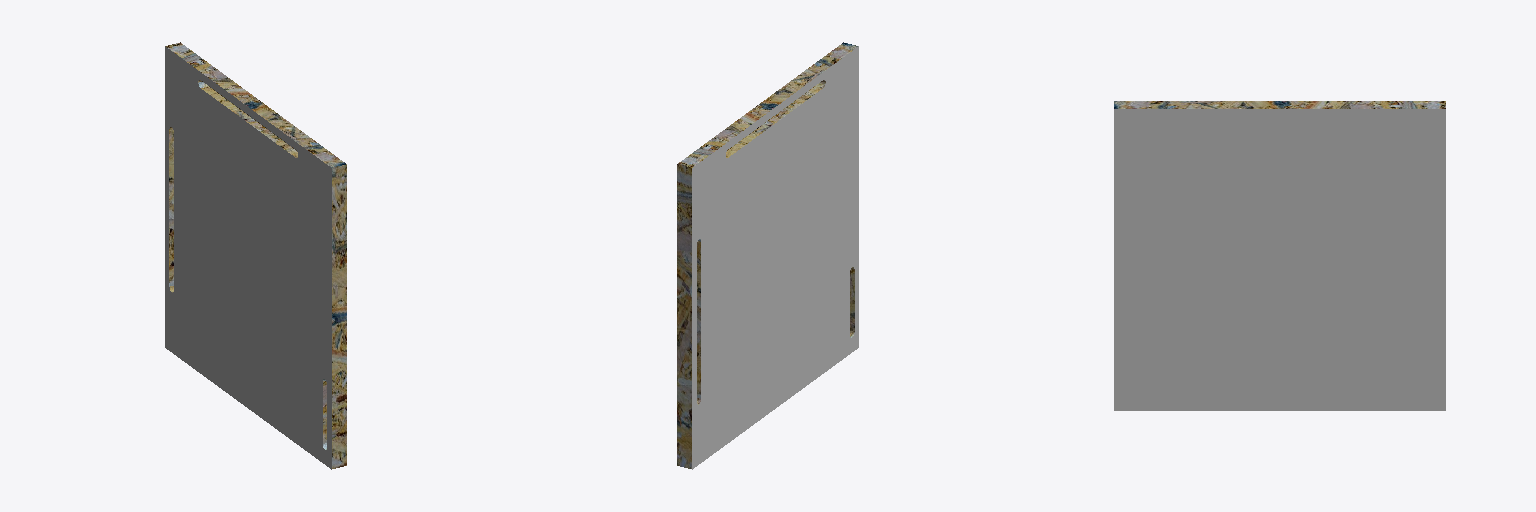
The picture shows the model from 3 angles: view 1: azimuth 30°, elevation 25°; view 2: azimuth 150°, elevation 25°; view 3: azimuth 270°, elevation 25°; orthographic projection.
Visible parts, largest first — view 1: Product; view 2: Product; view 3: Product.
Boxes of the visible parts, <box> form: Product: <box>165,42,346,469</box>; Product: <box>677,42,858,469</box>; Product: <box>1114,101,1445,410</box>.
Bounding box in the file's own units: 16 × 300 × 300.
3 materials, 1 textured.